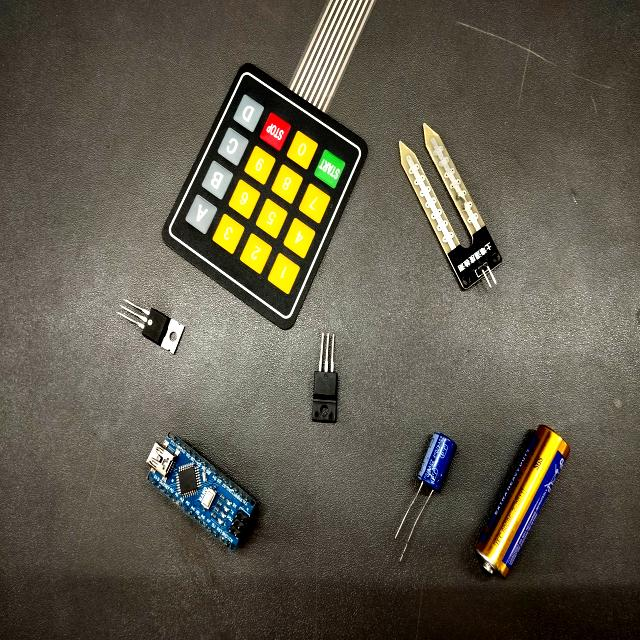capacitor: (415, 431, 457, 494)
